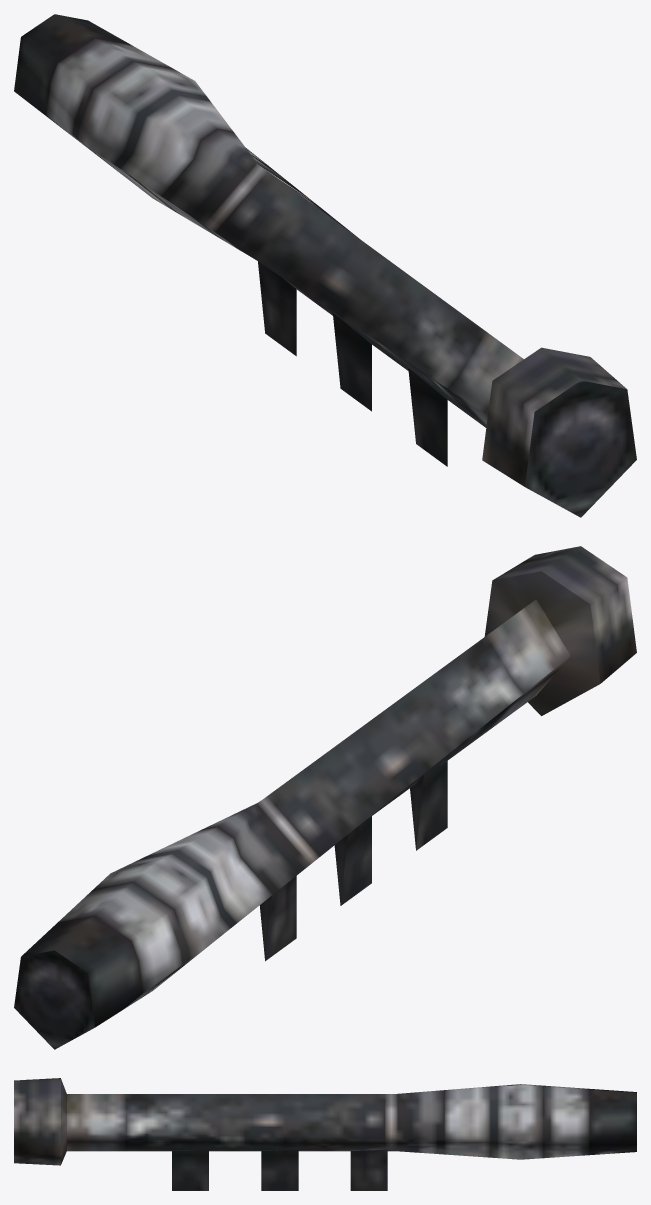
Rendered from wp_scope_deathhammer_l1.fbx.
3 renders of one model, top to bottom at view 1: azimuth 30°, elevation 25°; view 2: azimuth 150°, elevation 25°; view 3: azimuth 270°, elevation 25°, orthographic. The views are drawn at different scales.
Visible parts, largest first — view 1: mesh_node; view 2: mesh_node; view 3: mesh_node.
Part boxes in pixels (x1,y1,x2,y2): mesh_node: [14, 14, 636, 517]; mesh_node: [14, 546, 636, 1049]; mesh_node: [14, 1078, 636, 1190].
Bounding box in the file's own units: 0.0285 × 0.0427 × 0.2166.
1 material, 1 textured.
